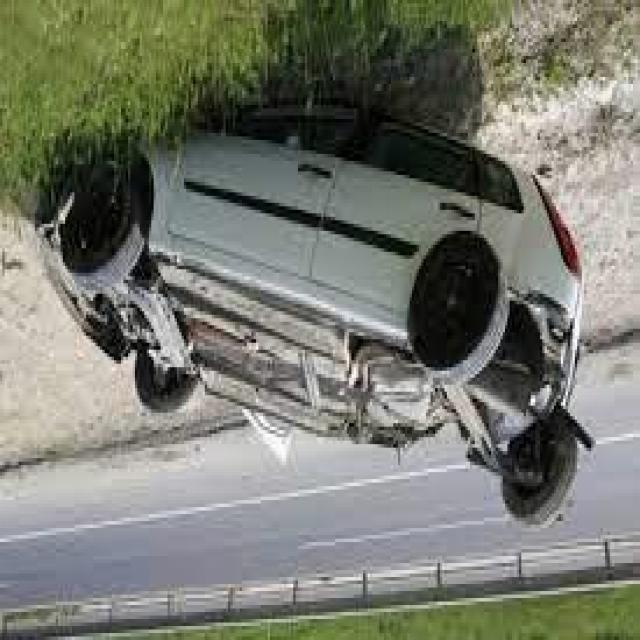severe: (24, 89, 600, 537)
